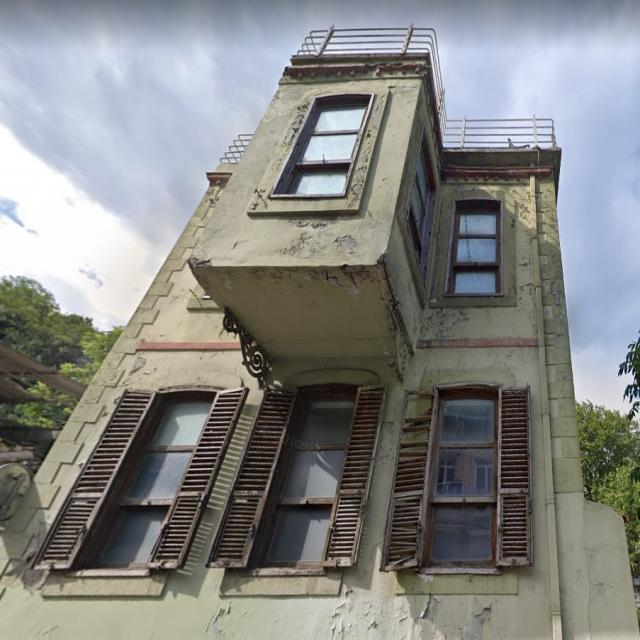Building: (0, 52, 640, 640)
